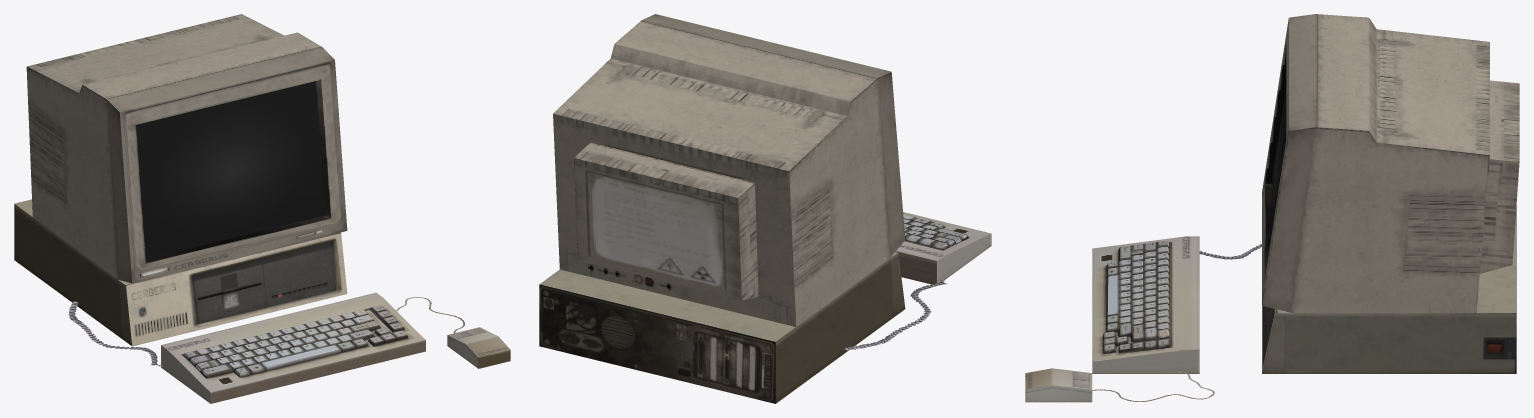
Rendered from Computer.fbx.
3 renders of one model, left to right at view 1: azimuth 30°, elevation 25°; view 2: azimuth 150°, elevation 25°; view 3: azimuth 270°, elevation 25°, orthographic. The views are drawn at different scales.
Parts seen in each view (by area): view 1: Computer1; view 2: Computer1; view 3: Computer1.
Boxes of the visible parts, bbox=[...] form: Computer1: bbox=[14, 14, 510, 403]; Computer1: bbox=[539, 14, 991, 403]; Computer1: bbox=[1025, 14, 1519, 402].
Size of the model in its own units: 111 by 93.31 by 60.9.
